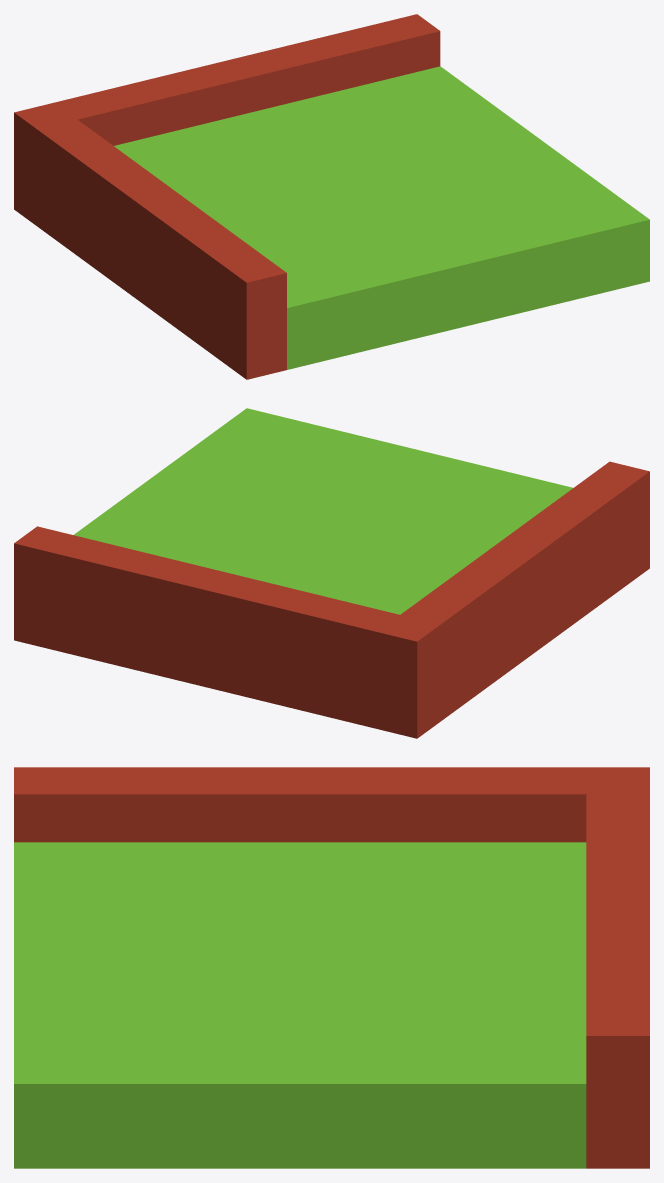
Rendered from Corner_Square.FBX.
The picture shows the model from 3 angles, top to bottom: view 1: azimuth 30°, elevation 25°; view 2: azimuth 150°, elevation 25°; view 3: azimuth 270°, elevation 25°; orthographic projection. The views are drawn at different scales.
Visible parts, largest first — view 1: Corner_01, Walls; view 2: Walls, Corner_01; view 3: Corner_01, Walls.
Part boxes in pixels (x1,y1,x2,y2): Corner_01: (114,66,649,369); Walls: (14,14,440,379); Walls: (14,461,649,738); Corner_01: (73,408,572,614); Corner_01: (14,842,586,1168); Walls: (14,767,649,1168).
Bounding box in the file's own units: 0.9999 × 0.9999 × 0.23.
